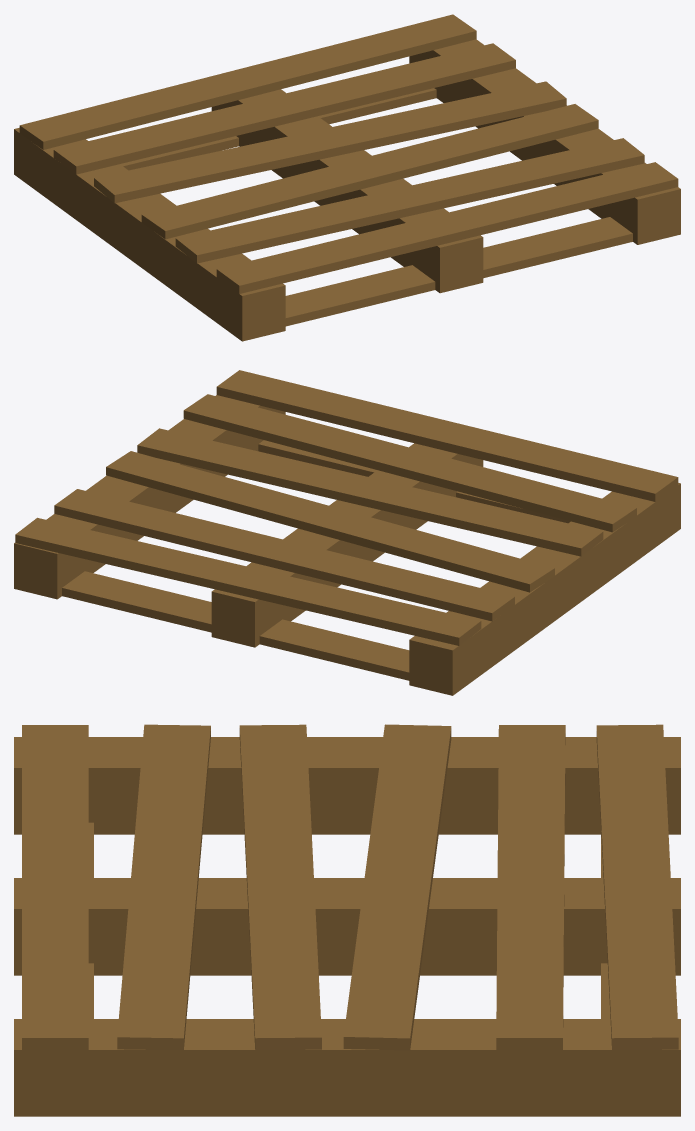
Rendered from Pallet.fbx.
The picture shows the model from 3 angles, top to bottom: view 1: azimuth 30°, elevation 25°; view 2: azimuth 150°, elevation 25°; view 3: azimuth 270°, elevation 25°; orthographic projection. The views are drawn at different scales.
Visible parts, largest first — view 1: Leg1, PlankB3, PlankB5, PlankB2, PlankB6, PlankB1, PlankB4, PlankA2, Leg3, Leg2, PlankA1; view 2: Leg1, PlankB1, PlankB4, PlankB6, PlankB2, PlankB5, PlankB3, PlankA1, Leg2, Leg3, PlankA2; view 3: Leg3, Leg1, Leg2, PlankB3, PlankB5, PlankB1, PlankB4, PlankB2, PlankB6, PlankA2, PlankA1.
Boxes of the visible parts, box(x1,y1,x2,y2) form: Leg1: box(14, 127, 285, 341); PlankB3: box(94, 81, 566, 203); PlankB5: box(175, 138, 644, 263); PlankB2: box(53, 43, 515, 174); PlankB6: box(216, 162, 678, 293); PlankB1: box(19, 14, 476, 149); PlankB4: box(141, 104, 598, 239); PlankA2: box(215, 217, 632, 337); Leg3: box(409, 39, 680, 244); Leg2: box(211, 89, 483, 293); PlankA1: box(18, 88, 436, 193); Leg1: box(409, 483, 680, 695); PlankB1: box(15, 517, 481, 645); PlankB4: box(137, 428, 603, 556); PlankB6: box(216, 370, 678, 501); PlankB2: box(54, 489, 514, 621); PlankB5: box(183, 394, 636, 532); PlankB3: box(106, 451, 554, 592); PlankA1: box(62, 571, 479, 692); Leg2: box(211, 443, 483, 647); Leg3: box(14, 395, 285, 599); PlankA2: box(258, 440, 676, 548); Leg3: box(14, 1019, 680, 1116); Leg1: box(14, 737, 680, 834); Leg2: box(14, 878, 680, 975); PlankB3: box(343, 724, 451, 1050); PlankB5: box(117, 724, 210, 1050); PlankB1: box(596, 724, 678, 1050); PlankB4: box(239, 724, 321, 1050); PlankB2: box(496, 725, 565, 1049); PlankB6: box(22, 725, 88, 1049); PlankA2: box(27, 822, 93, 1116); PlankA1: box(601, 831, 667, 1116).
Bounding box in the file's own units: 11.14 × 1.3 × 10.
